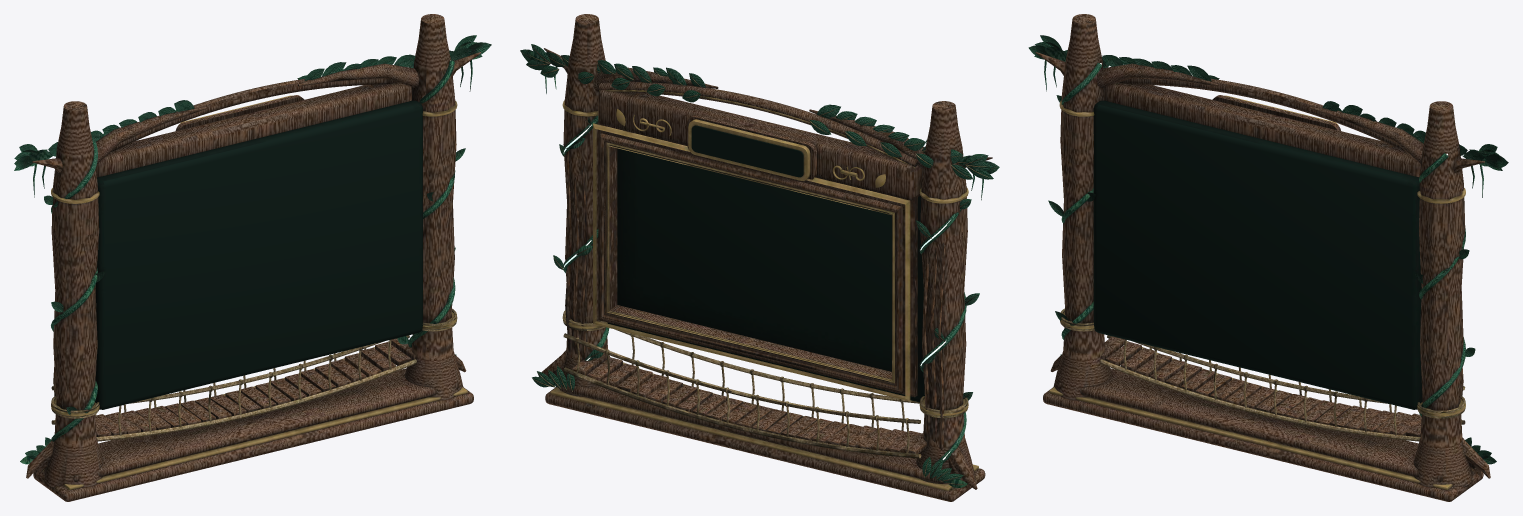
3 views of the same model, side by side, from view 1: azimuth 30°, elevation 25°; view 2: azimuth 150°, elevation 25°; view 3: azimuth 330°, elevation 25° (orthographic).
Visible parts, largest first — view 1: Uniform_dark_inset, Rainforest_teak, Living_foliage, Natural_rope, Dawn_bronze; view 2: Rainforest_teak, Uniform_dark_inset, Dawn_bronze, Living_foliage, Natural_rope; view 3: Uniform_dark_inset, Rainforest_teak, Living_foliage, Natural_rope, Dawn_bronze.
Part boxes in pixels (x1,y1,x2,y2): Uniform_dark_inset: [95, 100, 422, 409]; Rainforest_teak: [26, 14, 481, 501]; Living_foliage: [14, 35, 491, 464]; Natural_rope: [51, 66, 456, 441]; Dawn_bronze: [43, 95, 467, 489]; Rainforest_teak: [541, 14, 992, 501]; Uniform_dark_inset: [607, 125, 924, 402]; Dawn_bronze: [550, 90, 978, 490]; Living_foliage: [520, 44, 999, 487]; Natural_rope: [522, 46, 996, 484]; Uniform_dark_inset: [1093, 100, 1422, 409]; Rainforest_teak: [1035, 14, 1490, 501]; Living_foliage: [1028, 35, 1508, 464]; Natural_rope: [1060, 65, 1492, 441]; Dawn_bronze: [1049, 95, 1473, 489].
Size of the model in its own units: 13.73 by 10.4 by 2.06.
6 materials, 5 textured.
